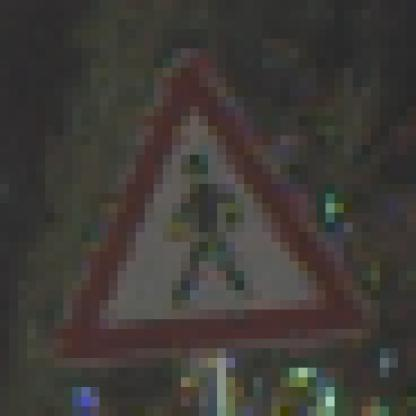crosswalk: (38, 33, 384, 394)
